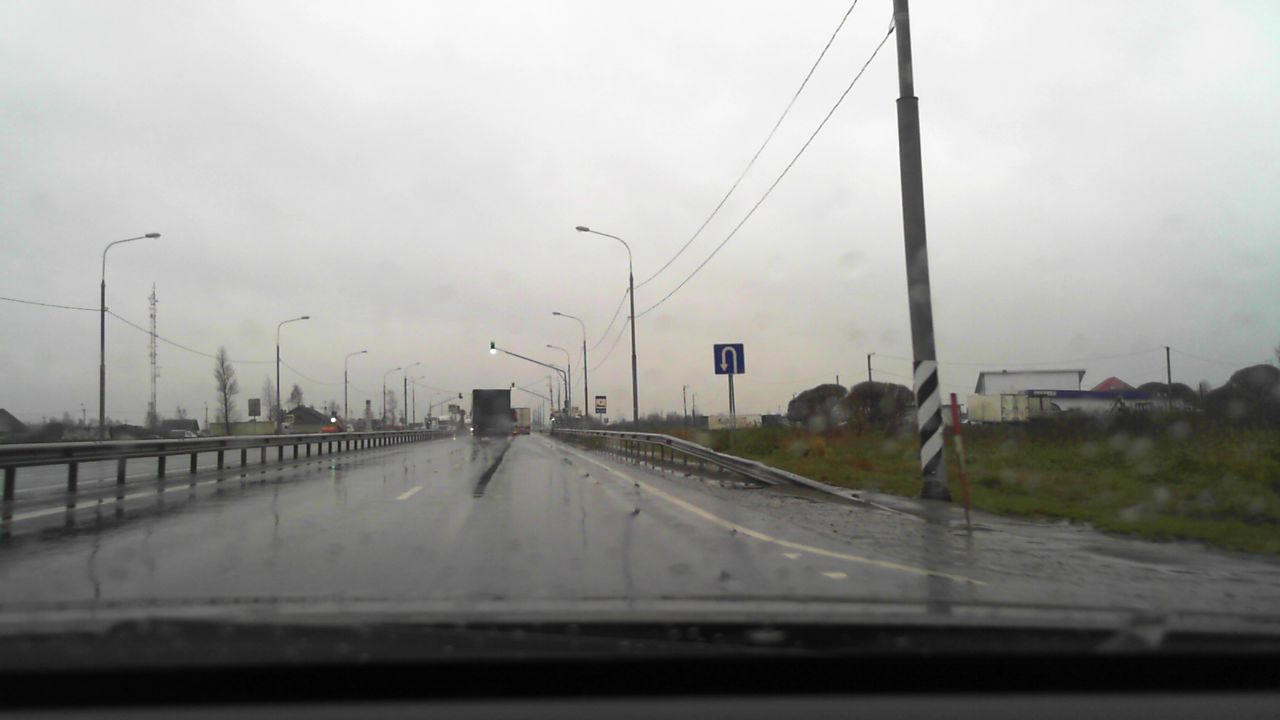U-turn: (714, 343, 745, 374)
